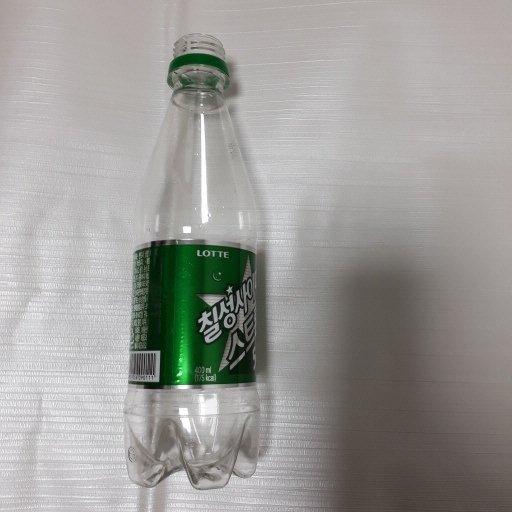Plastic_0: (124, 32, 262, 499)
